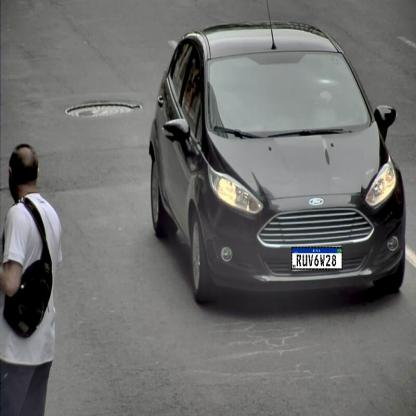PlacaM: (291, 247, 343, 270)
